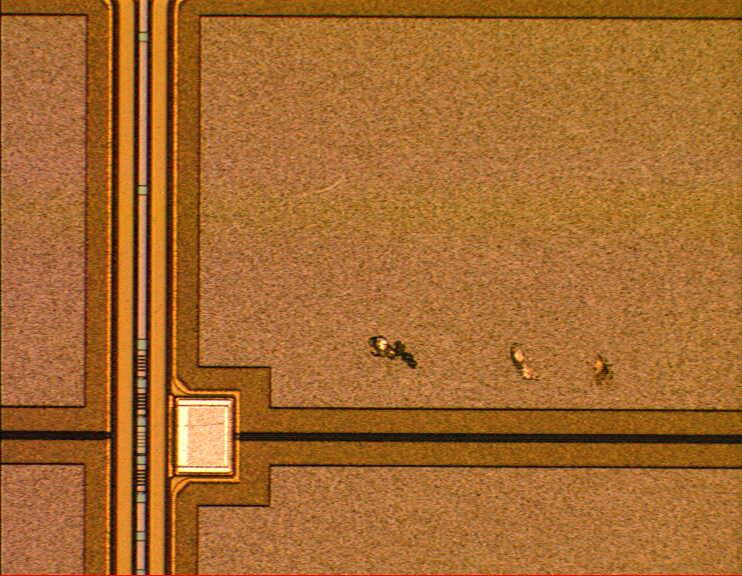SCRATCH: (364, 327, 575, 396), (575, 346, 633, 399)
